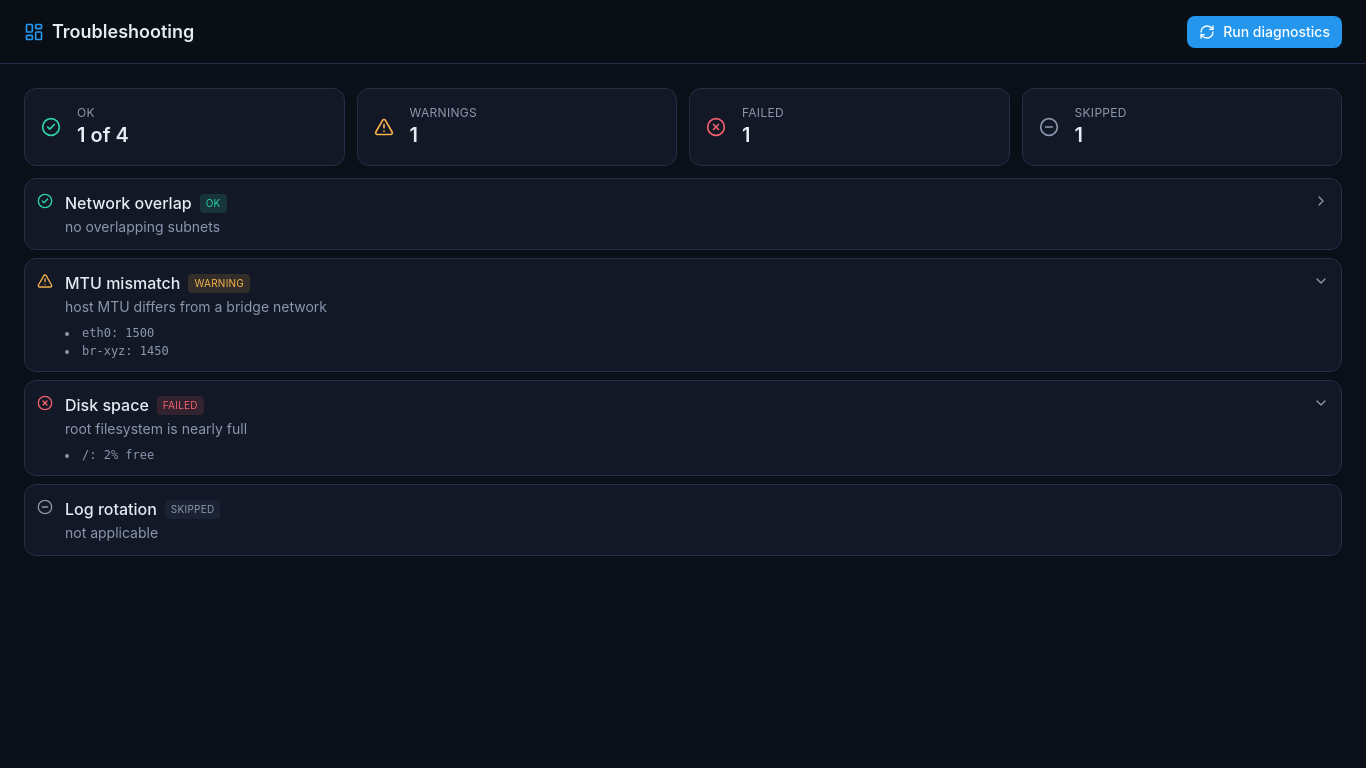
Test case: Troubleshooting remembers what you collapsed › a collapsed warning stays collapsed after a reload
Expected: the element with class "font-medium" shows "br-xyz: 1450", [82,344,169,358]
Click the button "MTU mismatch Warning host MTU differs from a bridge network" at (123, 283), box [37,271,1329,317]
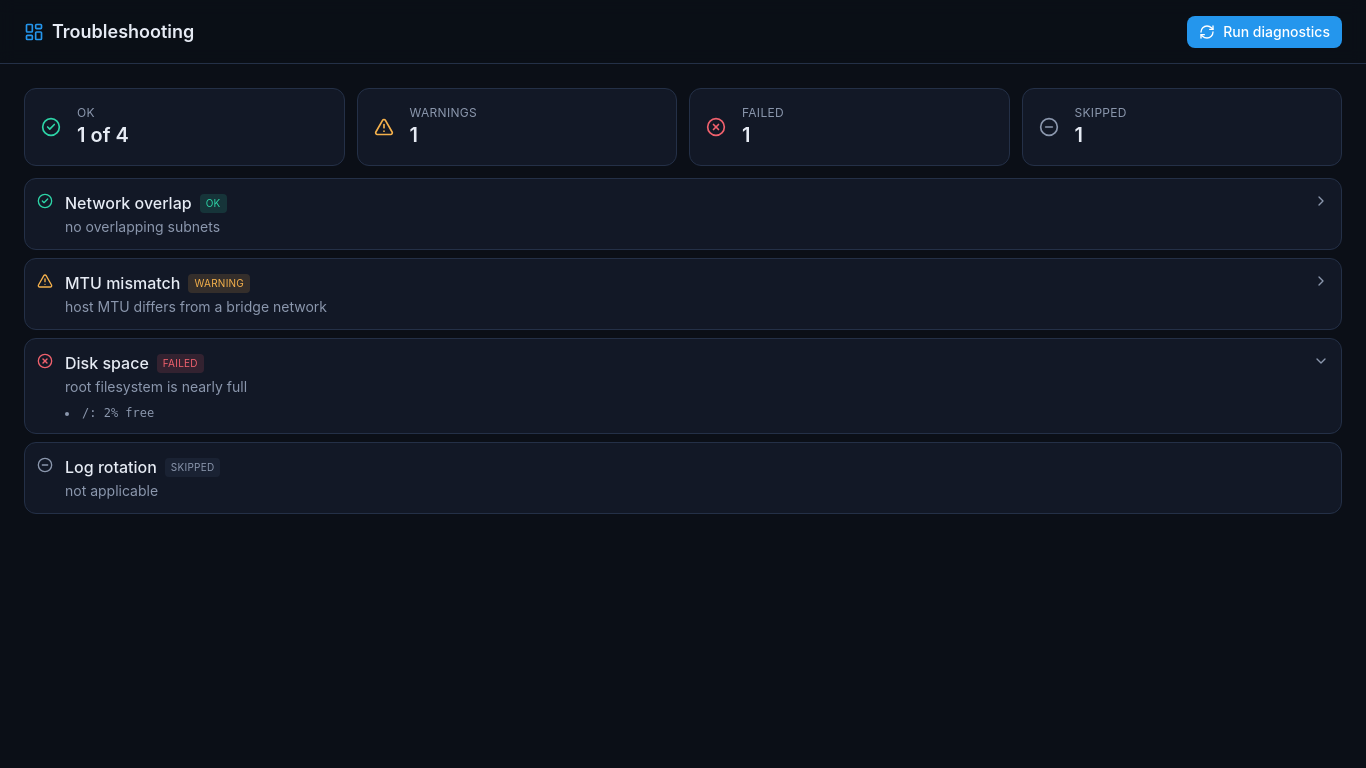
Now the list item with class "font-medium" no longer shows "br-xyz: 1450"
